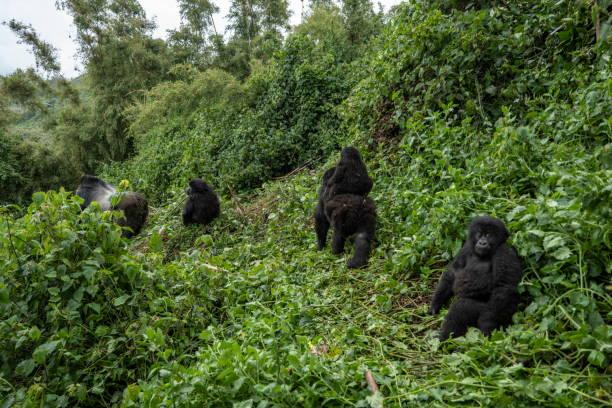goriile_montagne: (440, 211, 525, 328), (312, 150, 376, 264), (79, 169, 151, 229), (186, 180, 222, 226)
